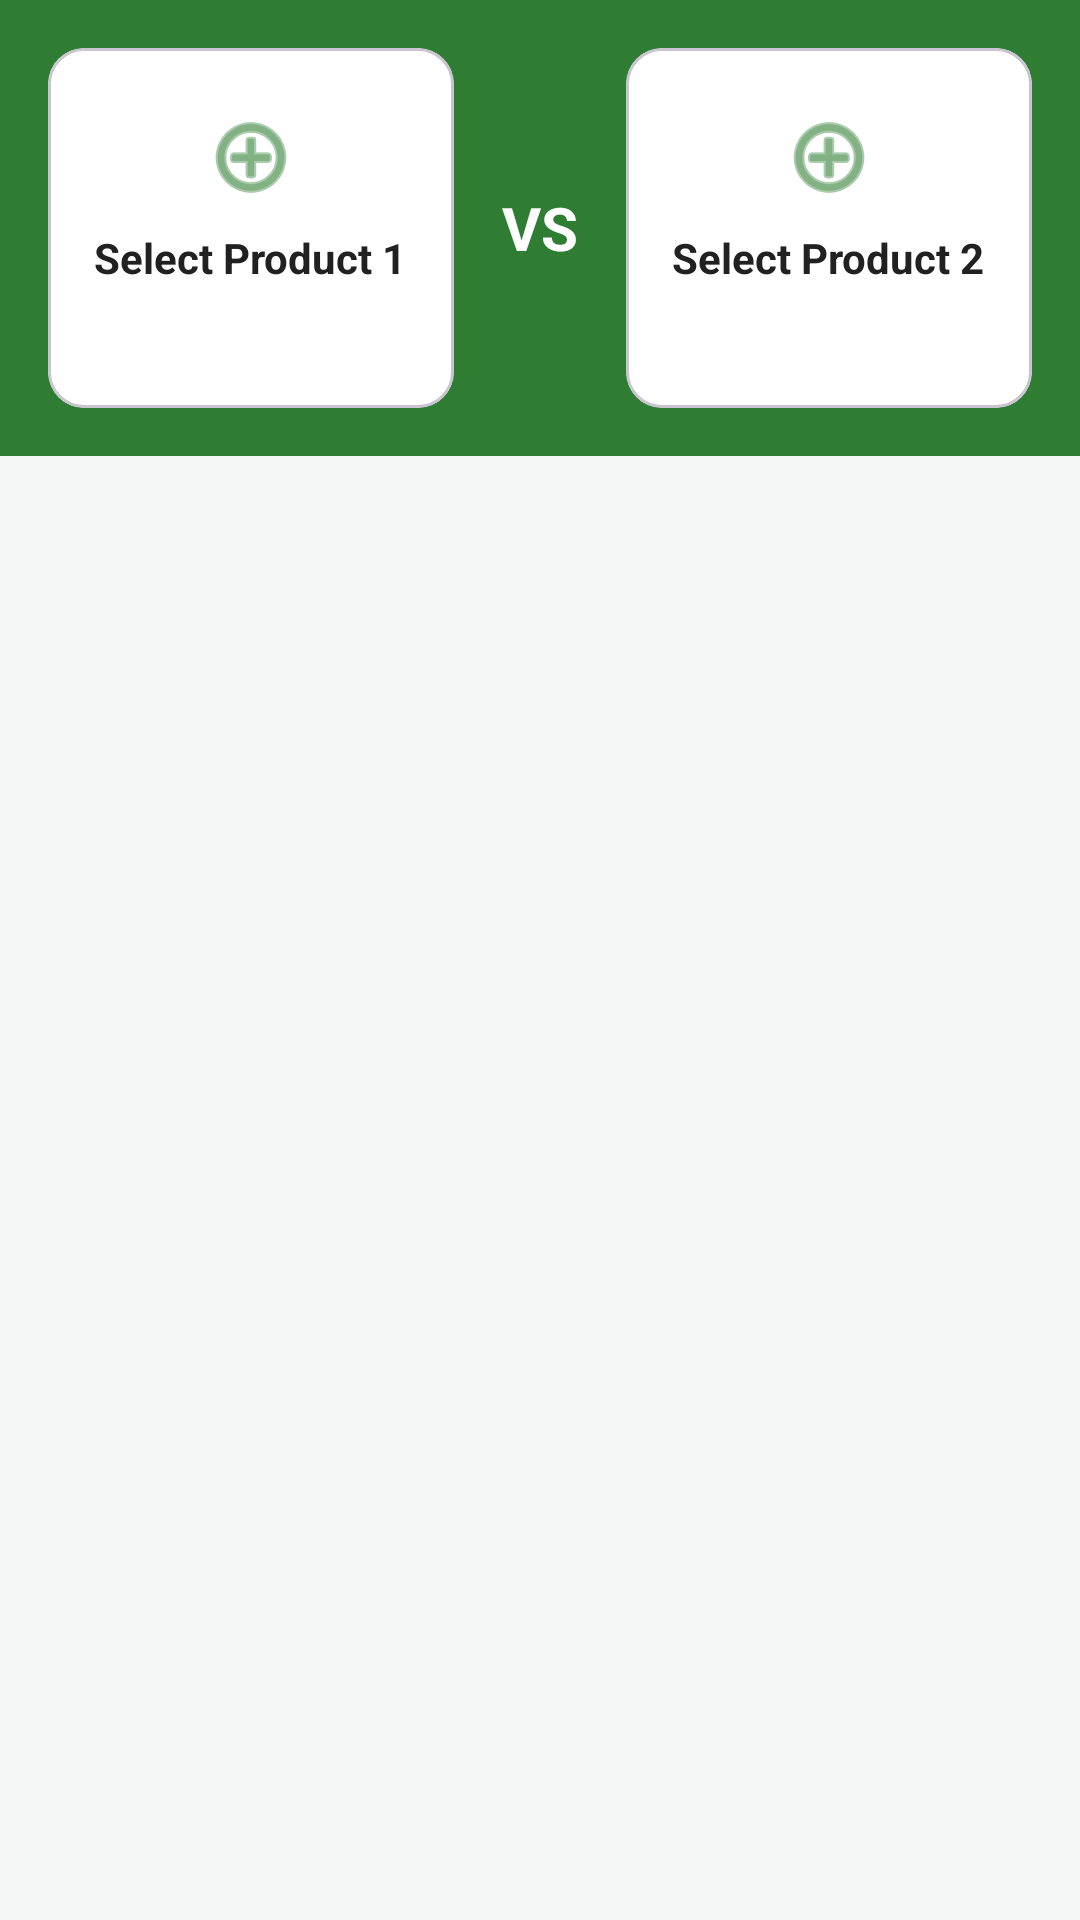

Icons on this 1080*1920 Android screen, each with its box as (left=x1, top=y1, right=x2, bottom=y2):
add: (left=215, top=122, right=287, bottom=193), (left=793, top=122, right=865, bottom=193)
